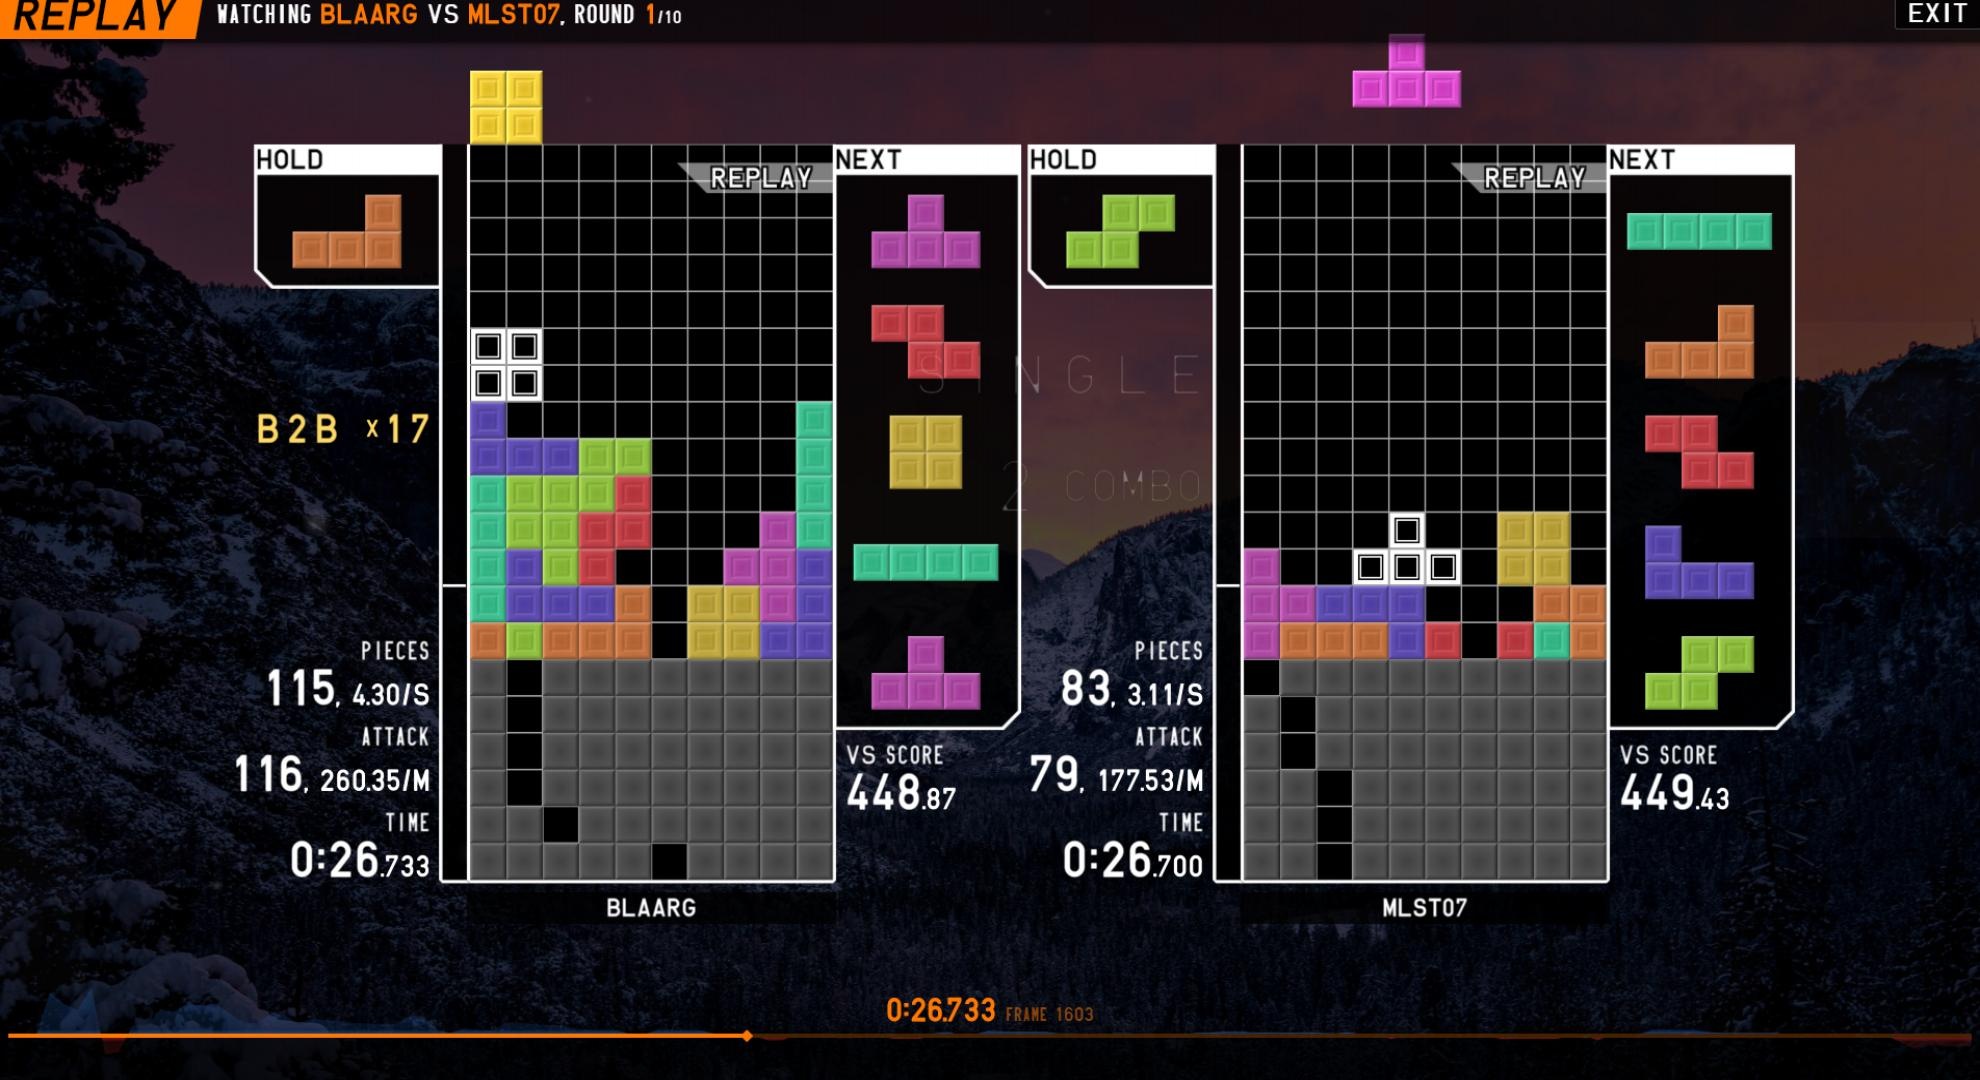tspin: (613, 507, 726, 625), (1425, 548, 1533, 665)
